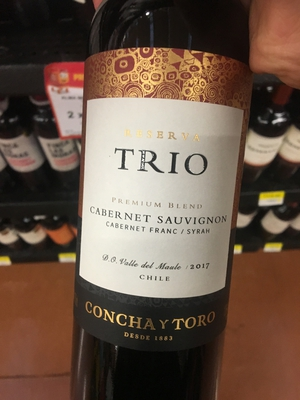trio cabernet sauvignon: (68, 17, 258, 400)
